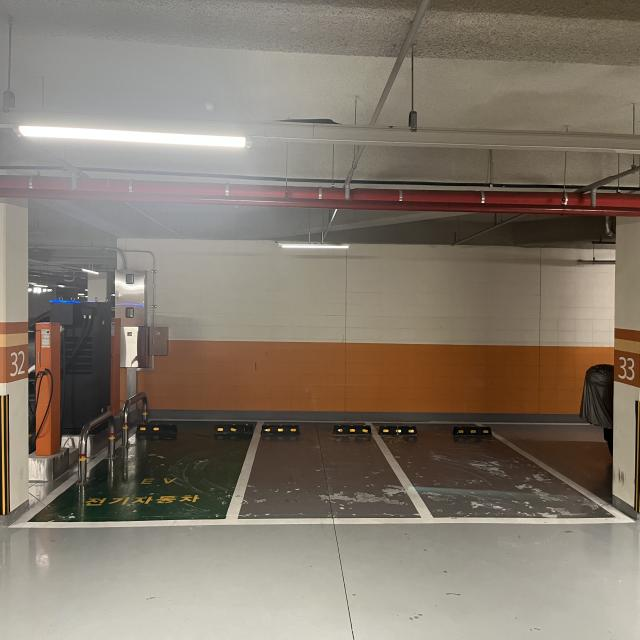empty: (376, 420, 639, 526), (220, 417, 444, 528)
